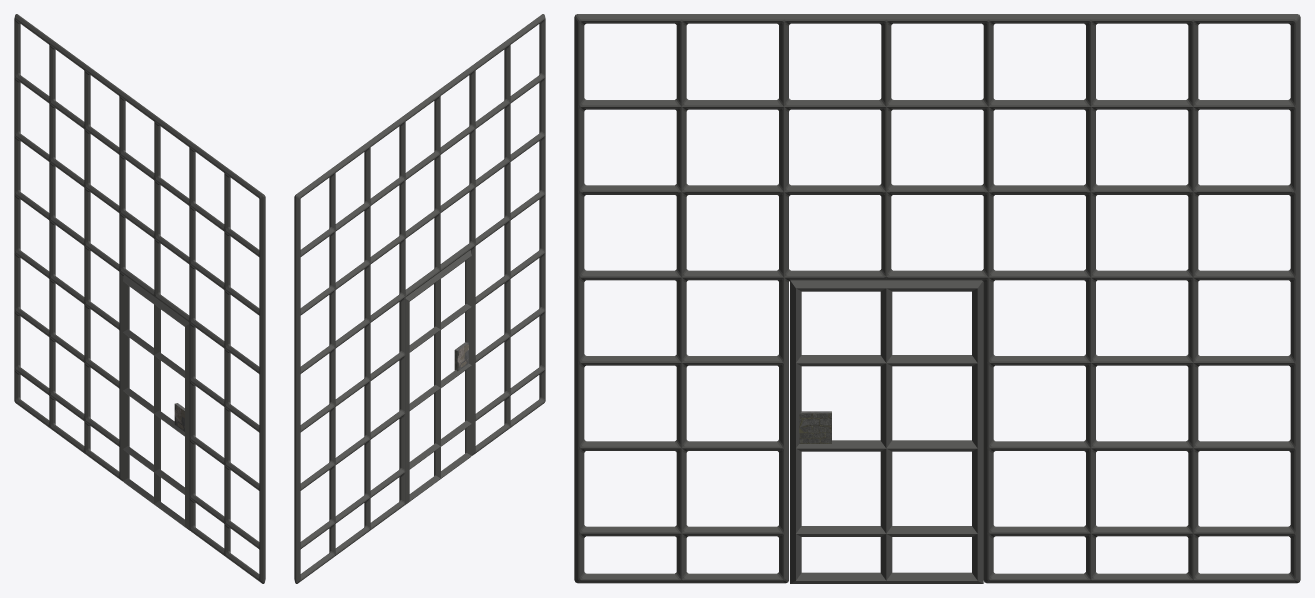
File: cell_bars_door.fbx
The picture shows the model from 3 angles, left to right: view 1: azimuth 30°, elevation 25°; view 2: azimuth 150°, elevation 25°; view 3: azimuth 270°, elevation 25°; orthographic projection. The views are drawn at different scales.
Parts seen in each view (by area): view 1: Plane.280; view 2: Plane.280; view 3: Plane.280.
Boxes of the visible parts, <box> form: Plane.280: <box>14,14,265,583</box>; Plane.280: <box>294,14,545,583</box>; Plane.280: <box>574,14,1300,583</box>.
Size of the model in its own units: 2.93 by 158 by 182.
